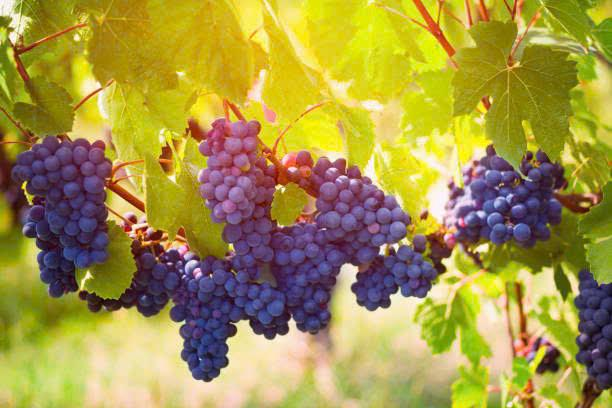grape: (192, 111, 288, 272), (290, 146, 411, 254), (17, 135, 120, 260), (452, 147, 569, 246), (166, 258, 246, 386), (275, 221, 342, 329), (573, 265, 612, 392)
